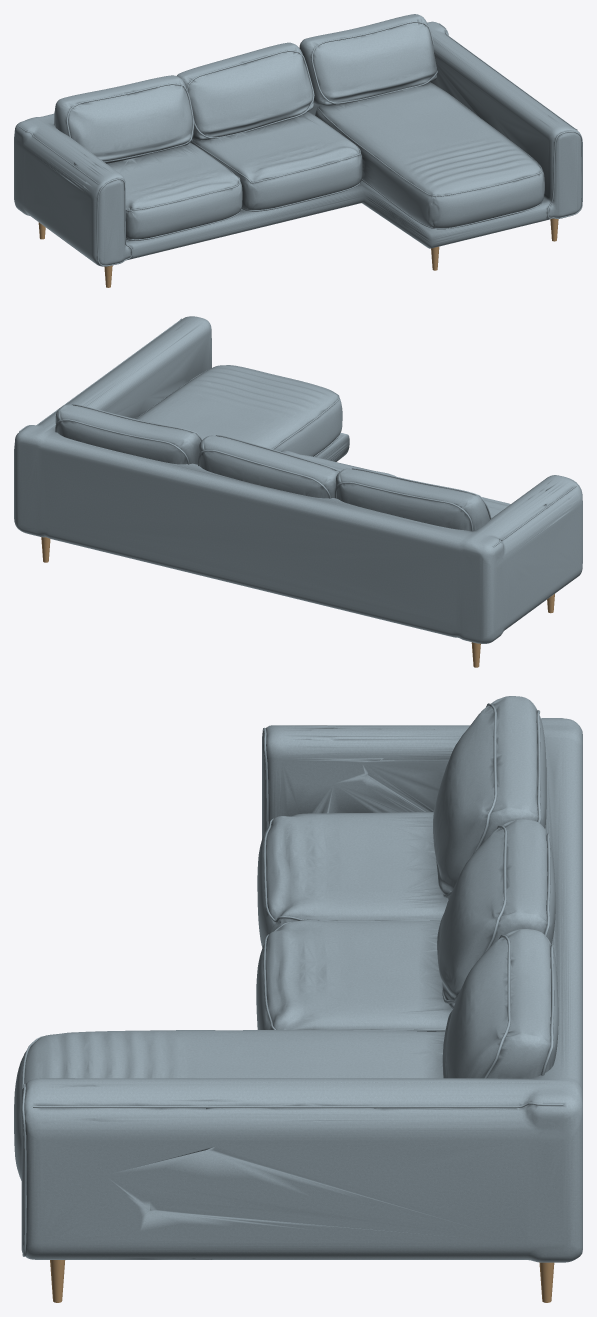
The model's file is pana-bruma.gltf.
The picture shows the model from 3 angles, top to bottom: view 1: azimuth 30°, elevation 25°; view 2: azimuth 150°, elevation 25°; view 3: azimuth 270°, elevation 25°; orthographic projection. The views are drawn at different scales.
Parts seen in each view (by area): view 1: tela_ar, madera_ar; view 2: tela_ar, madera_ar; view 3: tela_ar, madera_ar.
Boxes of the visible parts, bbox=[...] form: tela_ar: bbox=[14, 14, 582, 266]; madera_ar: bbox=[38, 218, 558, 287]; tela_ar: bbox=[14, 316, 582, 643]; madera_ar: bbox=[41, 537, 554, 667]; tela_ar: bbox=[14, 696, 582, 1262]; madera_ar: bbox=[50, 1260, 554, 1302].
Size of the model in its own units: 2.6 by 0.8227 by 1.6.
2 materials, 2 textured.
